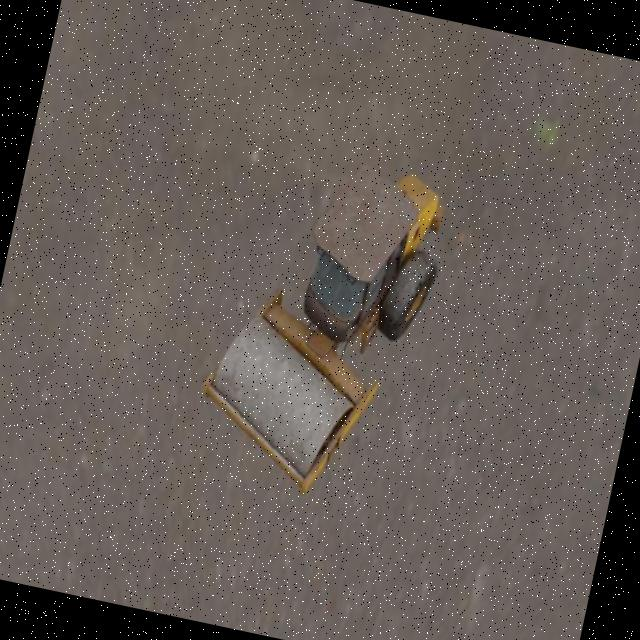Roller: (184, 138, 456, 512)
